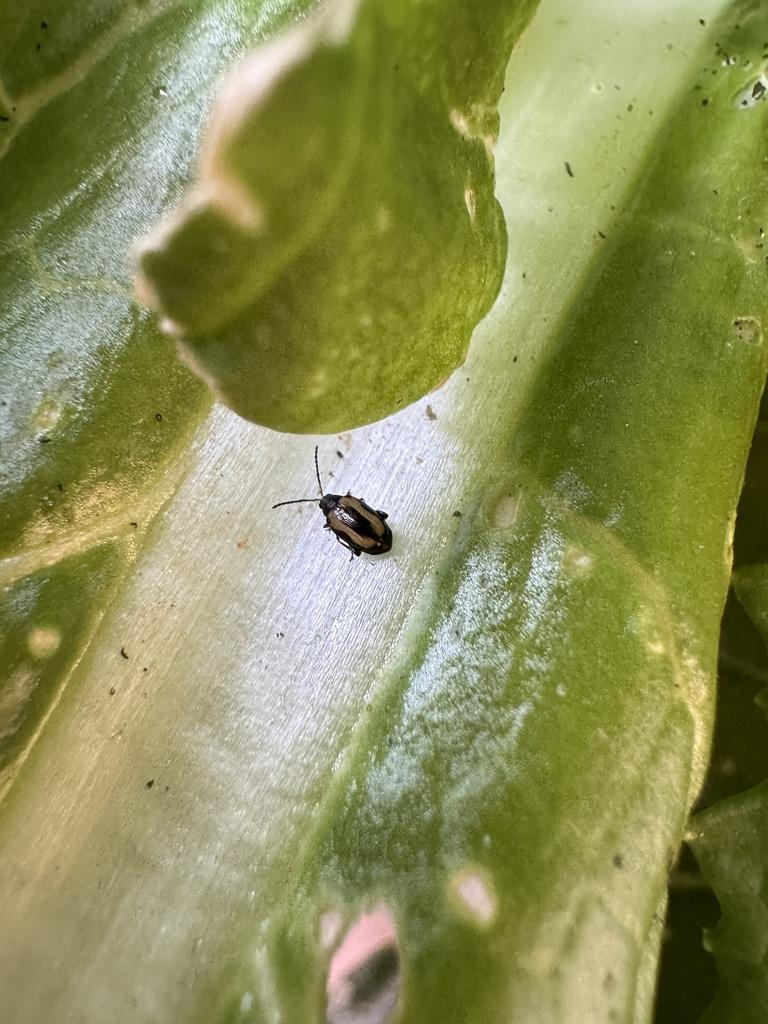flea_beetle: (249, 429, 418, 585)
